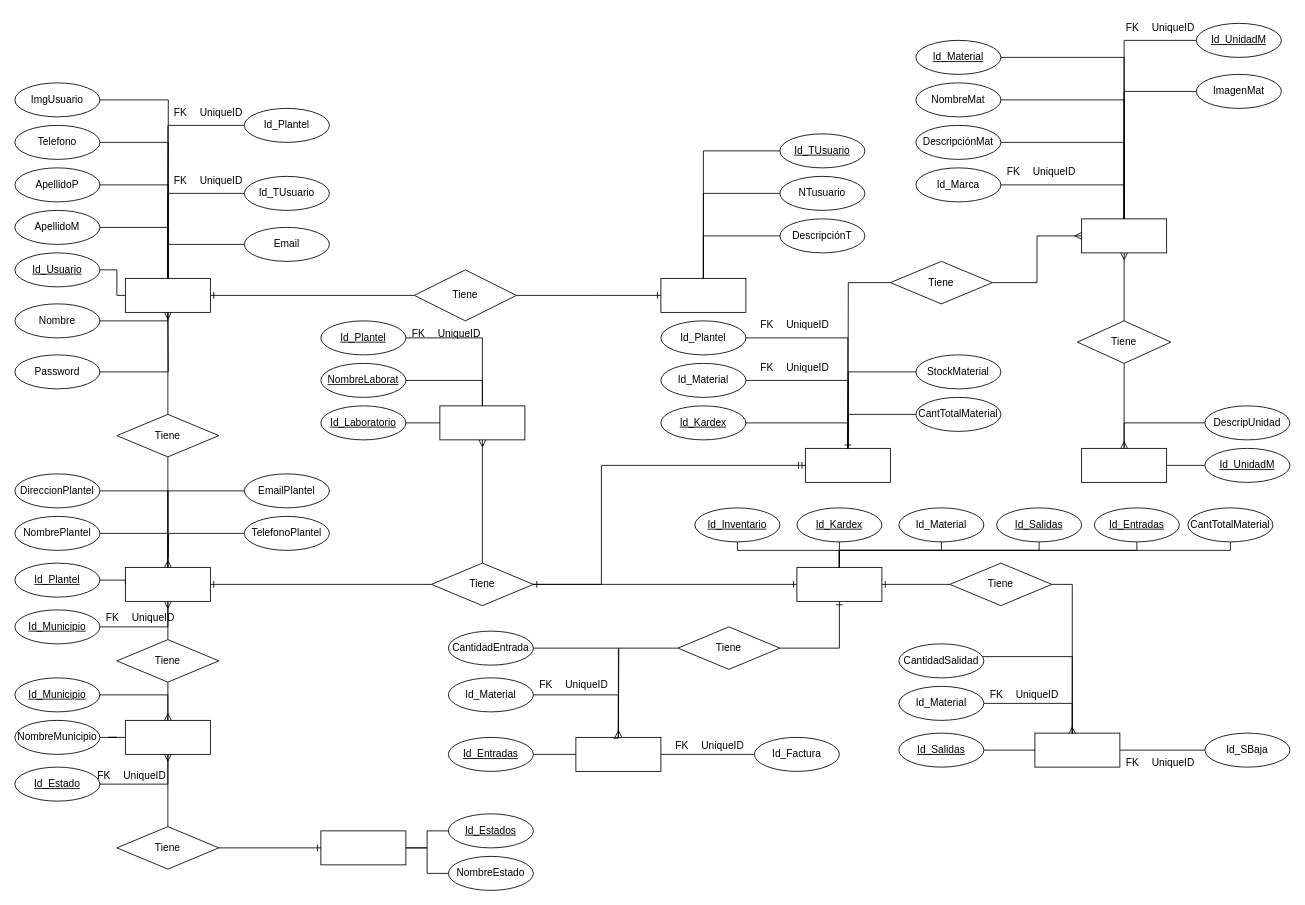
Some shapes in this 1305 by 905 pixel diagram are drawn without their labels. Here are the shapes that lost their labels. From the top down, the centre of each, then its label:
At point (1124, 235): "Materiales".
At point (167, 295): "Usuario".
At point (703, 295): "TUsuario".
At point (482, 422): "Laboratorios".
At point (847, 465): "Kardex".
At point (1124, 465): "UnidadMedida".
At point (167, 584): "Plantel".
At point (839, 584): "Inventario".
At point (167, 737): "Municipios".
At point (618, 754): "Entradas".
At point (1077, 749): "Salidas".
At point (363, 847): "Estados".
